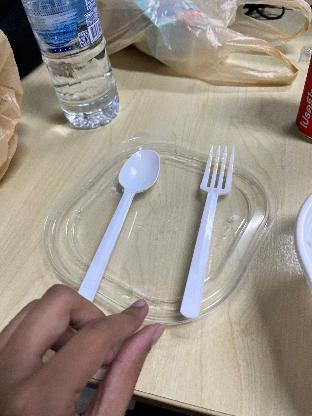Others: (78, 151, 164, 299), (170, 140, 242, 316)
Plastic Bottle: (20, 0, 122, 130)
